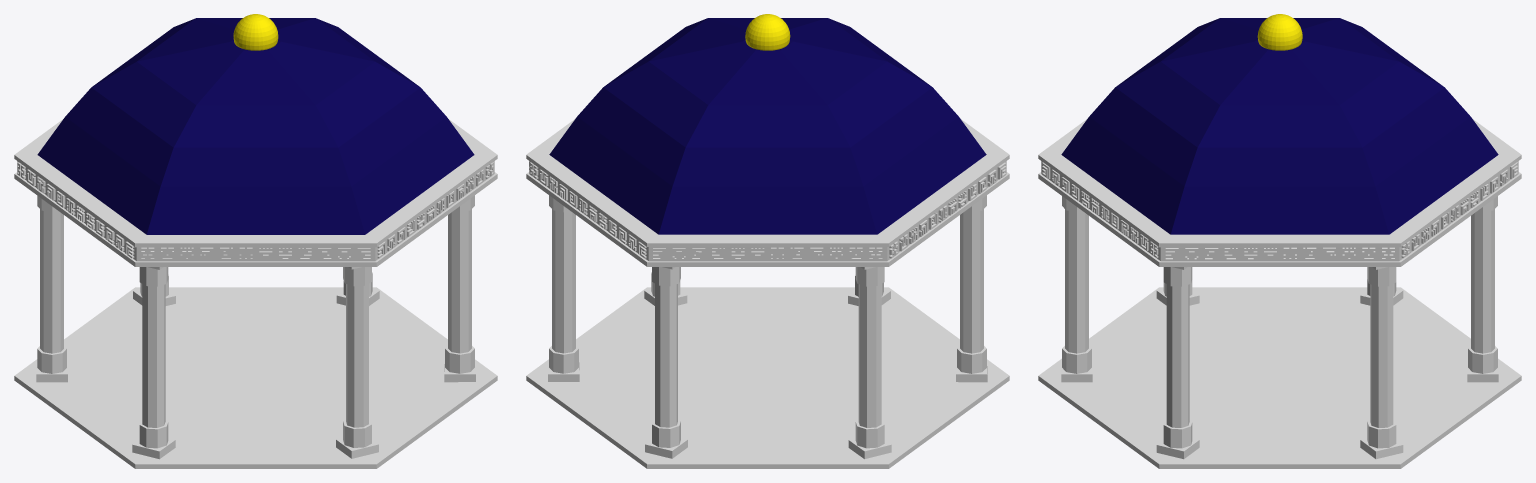
The model's file is Kiosque.glb.
The picture shows the model from 3 angles, left to right: view 1: azimuth 30°, elevation 25°; view 2: azimuth 150°, elevation 25°; view 3: azimuth 270°, elevation 25°; orthographic projection.
Parts seen in each view (by area): view 1: Cylinder.005, Cylinder.001, Cylinder.004, Cylinder.002, Cylinder, Cylinder.003, Sphere; view 2: Cylinder.005, Cylinder.001, Cylinder.004, Cylinder.002, Cylinder, Cylinder.003, Sphere; view 3: Cylinder.005, Cylinder.001, Cylinder.004, Cylinder.003, Cylinder, Sphere, Cylinder.002.
Part boxes in pixels (x1=…): Cylinder.005: x1=37, y1=18, x2=474, y2=234; Cylinder.001: x1=14, y1=287, x2=497, y2=468; Cylinder.004: x1=14, y1=119, x2=497, y2=266; Cylinder.002: x1=36, y1=196, x2=175, y2=459; Cylinder: x1=133, y1=267, x2=378, y2=458; Cylinder.003: x1=336, y1=195, x2=475, y2=382; Sphere: x1=233, y1=14, x2=278, y2=50; Cylinder.005: x1=549, y1=18, x2=986, y2=234; Cylinder.001: x1=526, y1=287, x2=1009, y2=468; Cylinder.004: x1=526, y1=119, x2=1009, y2=266; Cylinder.002: x1=848, y1=195, x2=987, y2=459; Cylinder: x1=645, y1=267, x2=890, y2=458; Cylinder.003: x1=548, y1=195, x2=687, y2=381; Sphere: x1=745, y1=14, x2=790, y2=50; Cylinder.005: x1=1061, y1=18, x2=1498, y2=234; Cylinder.001: x1=1038, y1=287, x2=1521, y2=468; Cylinder.004: x1=1038, y1=119, x2=1521, y2=266; Cylinder.003: x1=1156, y1=267, x2=1403, y2=459; Cylinder: x1=1061, y1=196, x2=1498, y2=382; Sphere: x1=1257, y1=14, x2=1302, y2=50; Cylinder.002: x1=1156, y1=279, x2=1403, y2=305.
Bounding box in the file's own units: 28.09 × 26.98 × 32.44.
